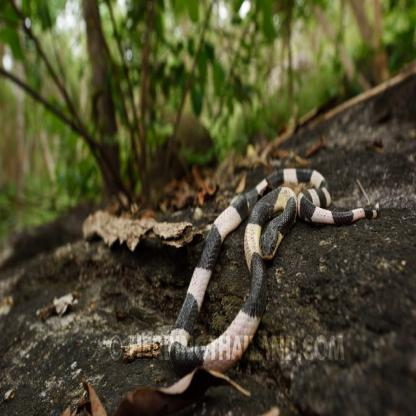Snake: (152, 170, 378, 367)
